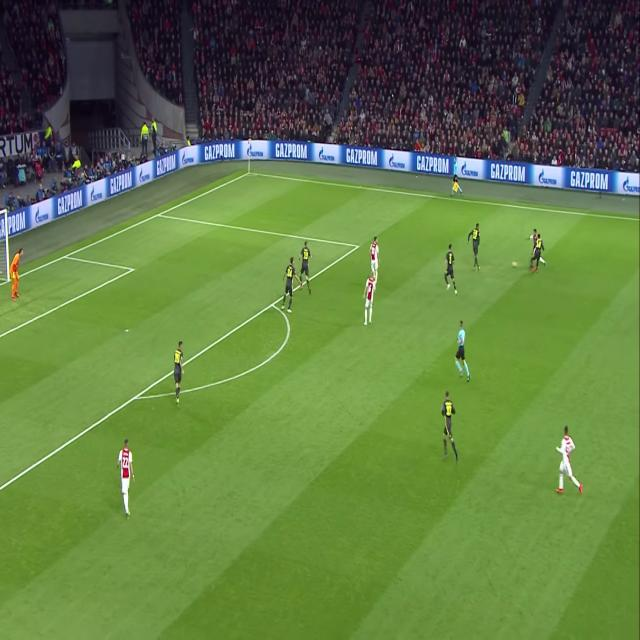Ball: (512, 262, 518, 268)
GoalKeeper: (9, 248, 23, 302)
TEAM 1: (555, 428, 586, 494), (369, 232, 382, 284), (364, 276, 375, 324), (524, 229, 538, 247)
TEAM 2: (119, 437, 135, 519), (442, 391, 458, 457), (171, 339, 184, 405), (284, 259, 298, 309), (299, 241, 312, 288), (469, 224, 482, 266), (445, 246, 456, 293), (534, 233, 544, 272)
